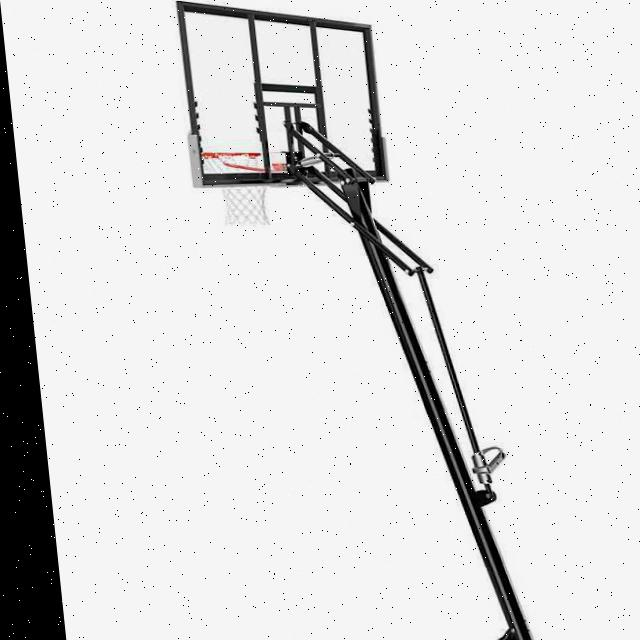hoop: (202, 152, 278, 226)
